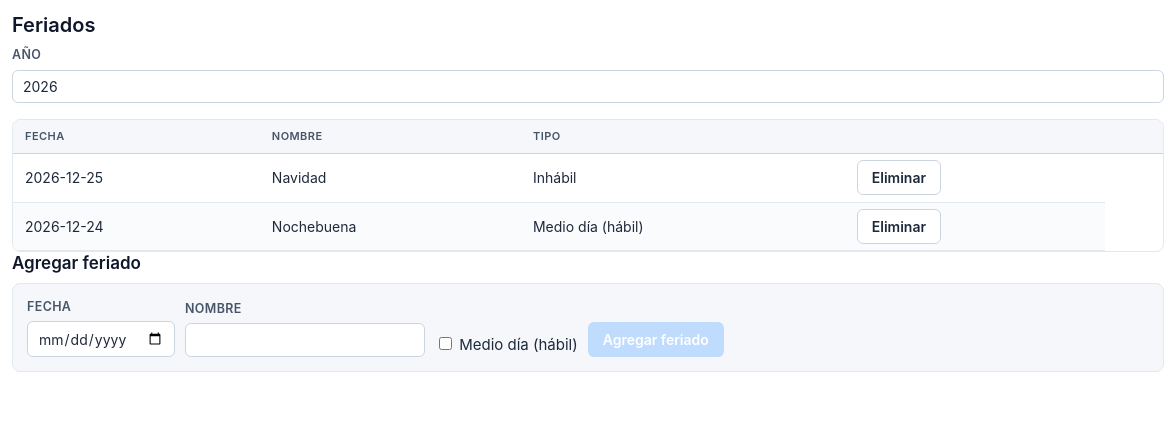
Test case: Feriados › elimina por fecha y muestra el error si falla
The image size is (1176, 444).
Click the button with aria-label "Eliminar feriado 2026-12-25" at [899, 178], box [857,160,941,195]
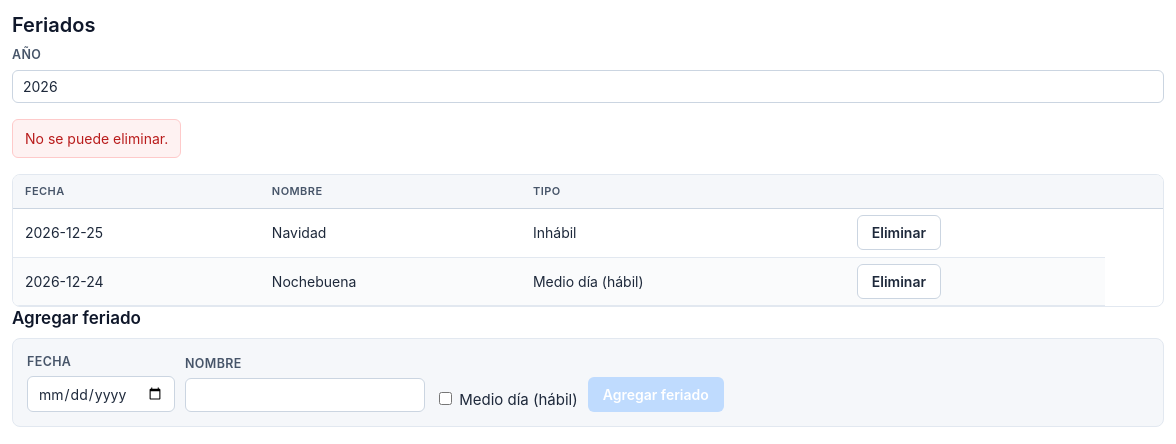
Expected: the text "No se puede eliminar." is shown, [12,119,181,158]
